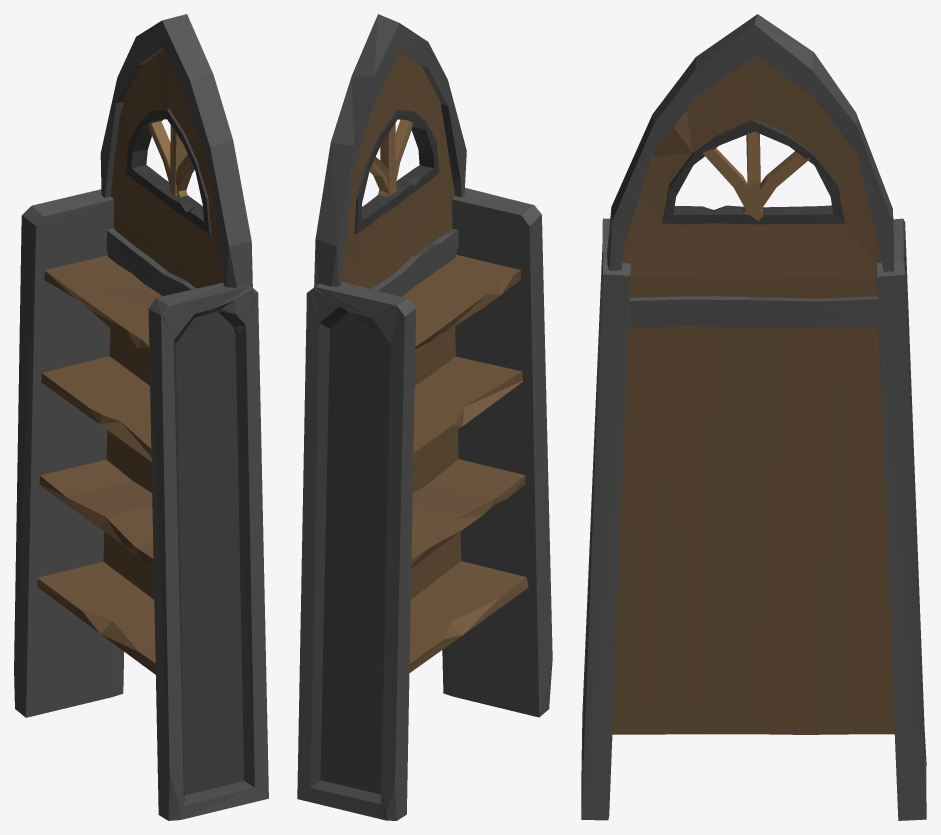
Rendered from AWS_Shelve_001.fbx.
3 views of the same model, side by side, from view 1: azimuth 30°, elevation 25°; view 2: azimuth 150°, elevation 25°; view 3: azimuth 270°, elevation 25° (orthographic). The views are drawn at different scales.
Parts seen in each view (by area): view 1: AWS_Shelve_001; view 2: AWS_Shelve_001; view 3: AWS_Shelve_001.
Boxes of the visible parts, <box> form: AWS_Shelve_001: <box>14,14,268,820</box>; AWS_Shelve_001: <box>297,14,552,820</box>; AWS_Shelve_001: <box>581,14,926,820</box>.
Size of the model in its own units: 21.11 by 148 by 58.32.
